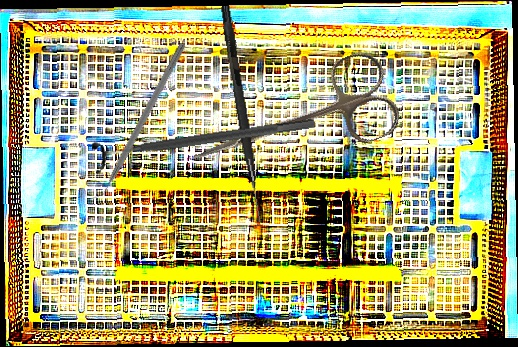Chopper: (85, 38, 187, 207)
Fixation Ring: (90, 105, 318, 176)
Hook Surgical: (217, 5, 268, 223)
Iris Scissors: (177, 46, 406, 204)
